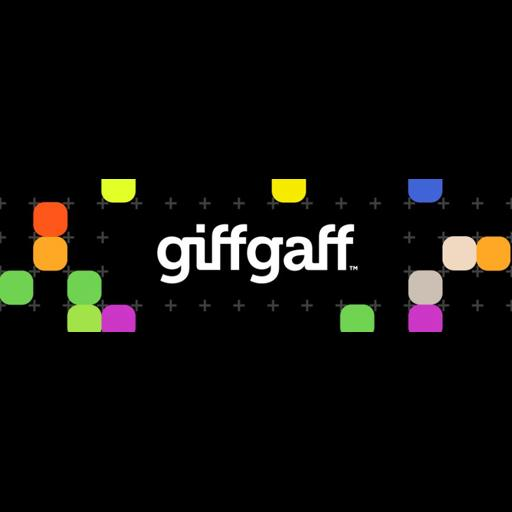Giffgaff: (0, 179, 512, 332)
